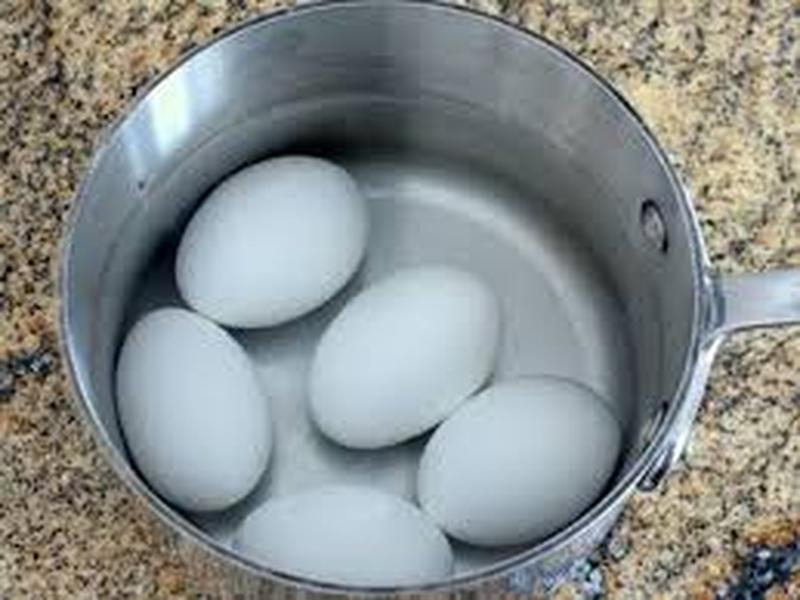egg: (305, 267, 499, 453)
